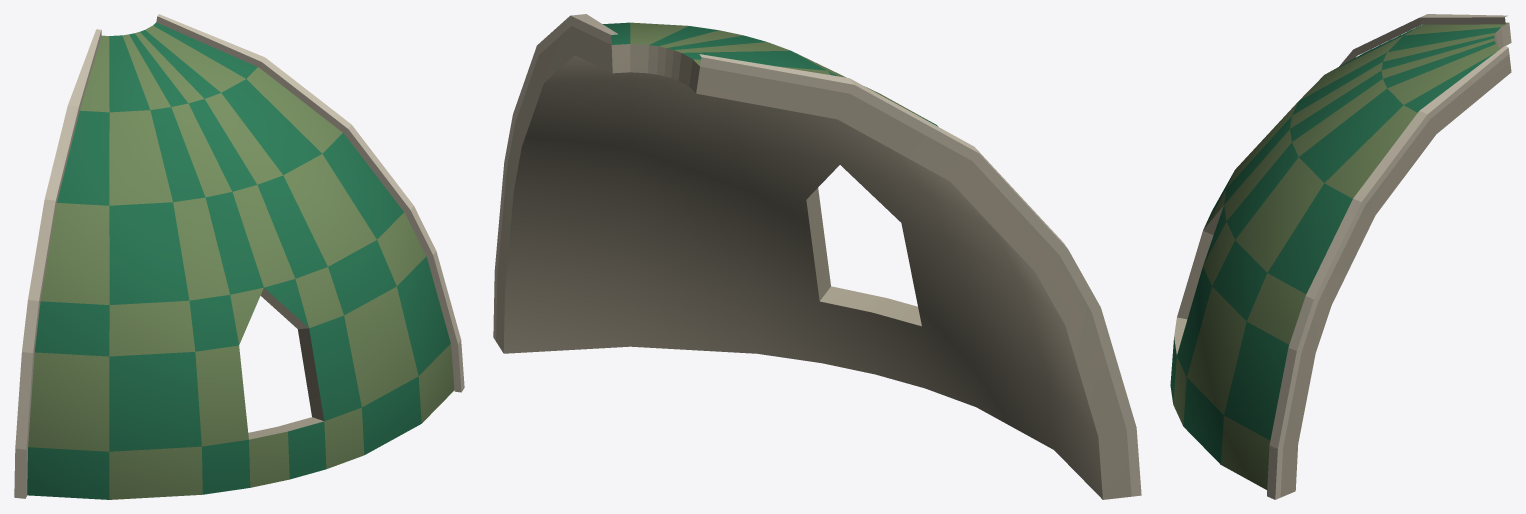
The model's file is dome.panel_4_window.green.glb.
3 renders of one model, left to right at view 1: azimuth 30°, elevation 25°; view 2: azimuth 150°, elevation 25°; view 3: azimuth 270°, elevation 25°, orthographic. The views are drawn at different scales.
Parts seen in each view (by area): view 1: dome_panel_4_window_green; view 2: dome_panel_4_window_green; view 3: dome_panel_4_window_green.
Part boxes in pixels (x1,y1,x2,y2): dome_panel_4_window_green: (14,14,464,499); dome_panel_4_window_green: (493,14,1141,499); dome_panel_4_window_green: (1170,14,1511,499).
Size of what is drawn, in the model's own units: 5.05 by 3.63 by 3.18.
